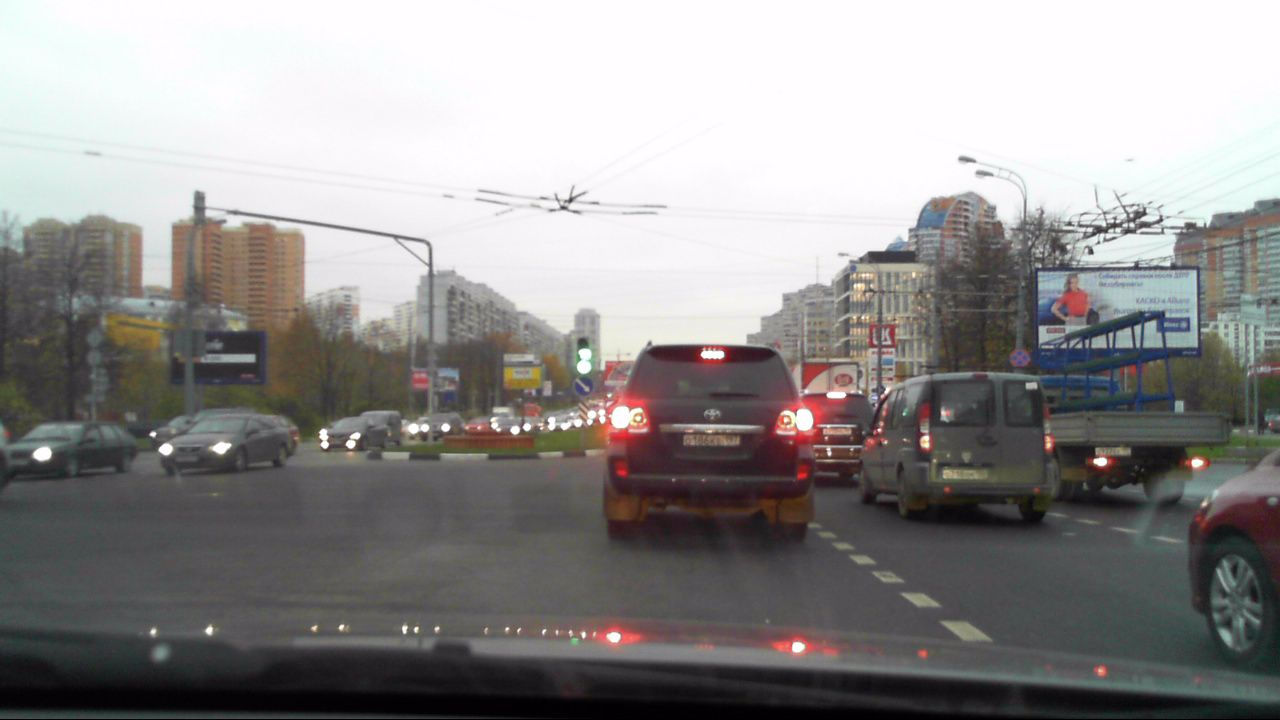No Parking: (1008, 348, 1029, 366)
